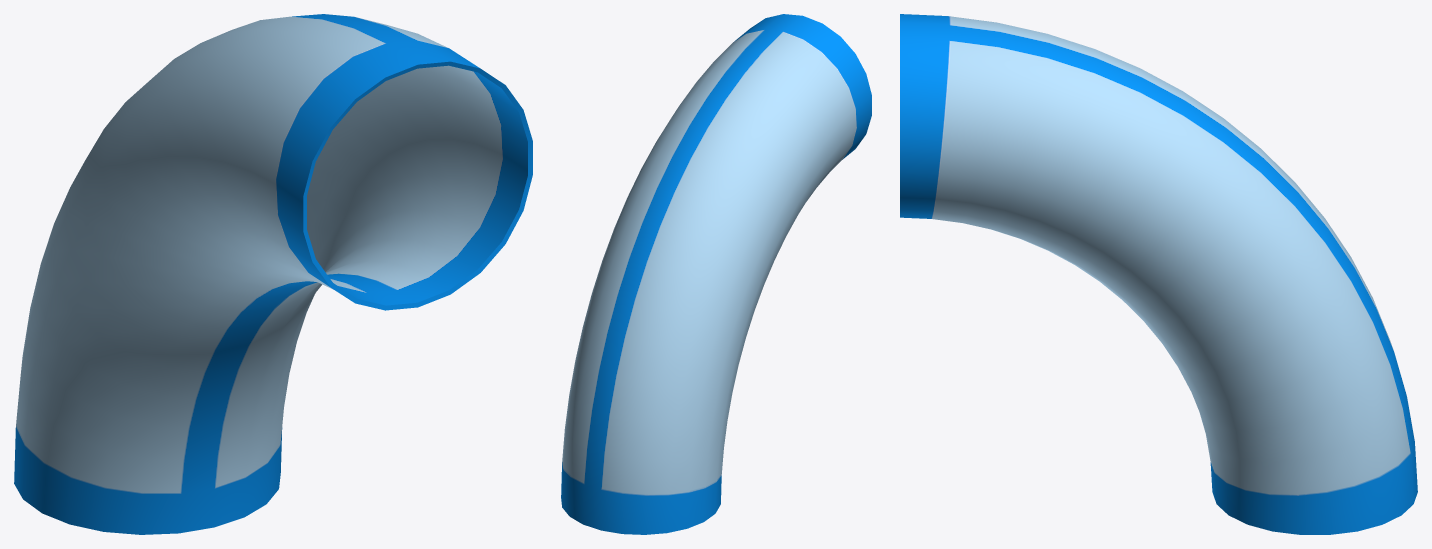
Rendered from FUT0110022.fbx.
The picture shows the model from 3 angles, left to right: view 1: azimuth 30°, elevation 25°; view 2: azimuth 150°, elevation 25°; view 3: azimuth 270°, elevation 25°; orthographic projection. The views are drawn at different scales.
Visible parts, largest first — view 1: smFUT0110022; view 2: smFUT0110022; view 3: smFUT0110022.
Part boxes in pixels (box(x1,y1,x2,y2)): smFUT0110022: box(14, 14, 532, 534); smFUT0110022: box(561, 14, 871, 534); smFUT0110022: box(900, 14, 1417, 534).
Size of what is drawn, in the model's own units: 212 by 540 by 540.
1 material, 1 textured.
